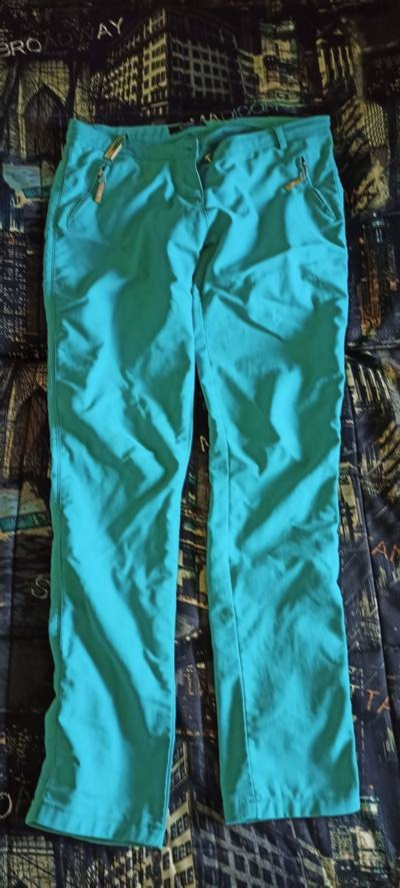Pants: (20, 90, 373, 836)
